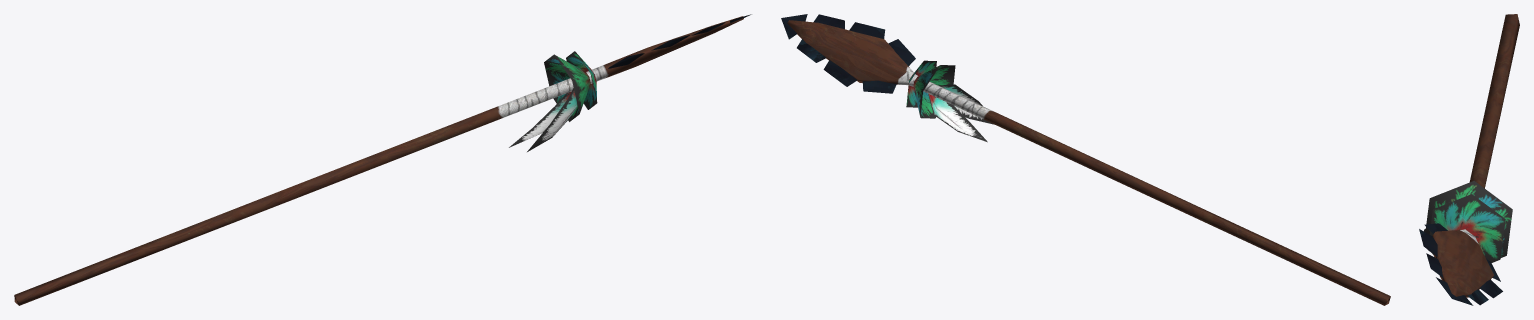
Rendered from rider-weapon-slice-obsidianweapons.glb.
3 renders of one model, left to right at view 1: azimuth 90°, elevation 25°; view 2: azimuth 210°, elevation 25°; view 3: azimuth 330°, elevation 25°, orthographic. The views are drawn at different scales.
Size of the model in its own units: 1.11 by 0.4532 by 2.15.
Materials: 1 (1 with a texture image).
